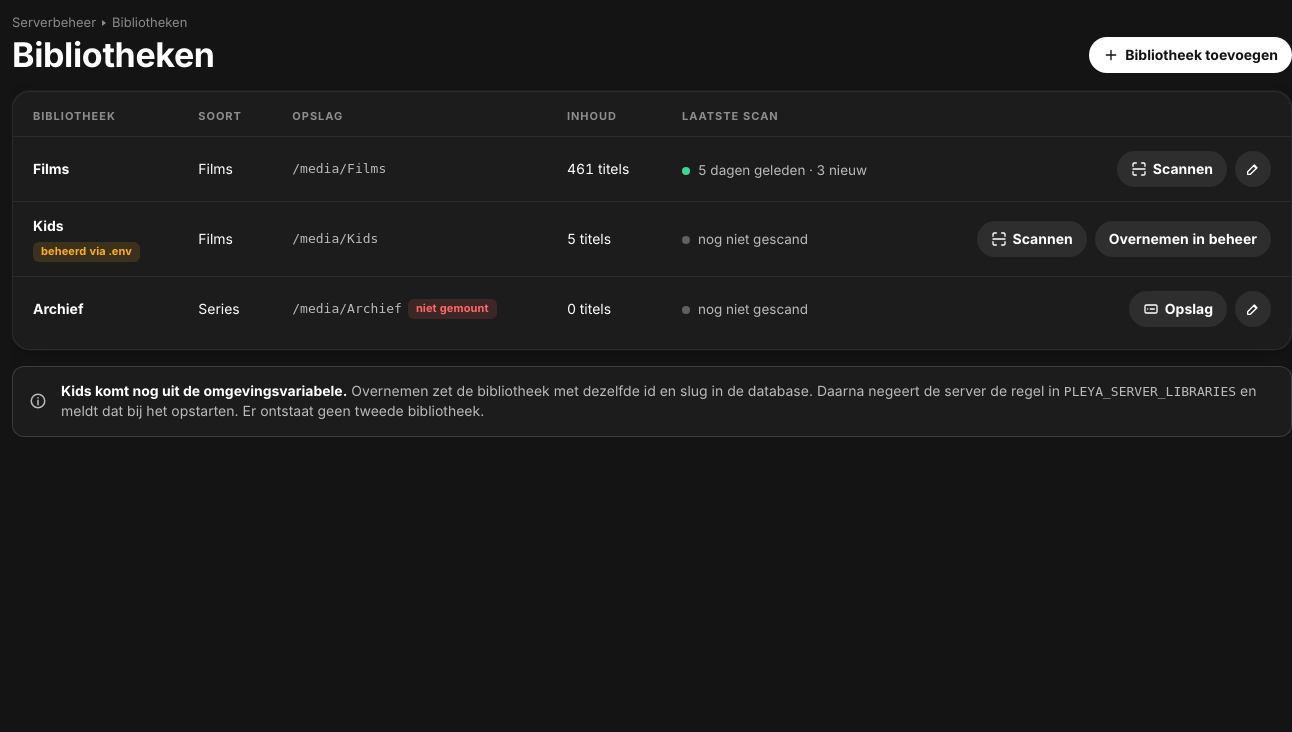
Test: scherm 21, bibliotheken › start een scan met POST en zet de rij in de wachtrij
Step 1. Click the button with aria-label "Films scannen" → (1172, 169), box [1117, 151, 1227, 187]
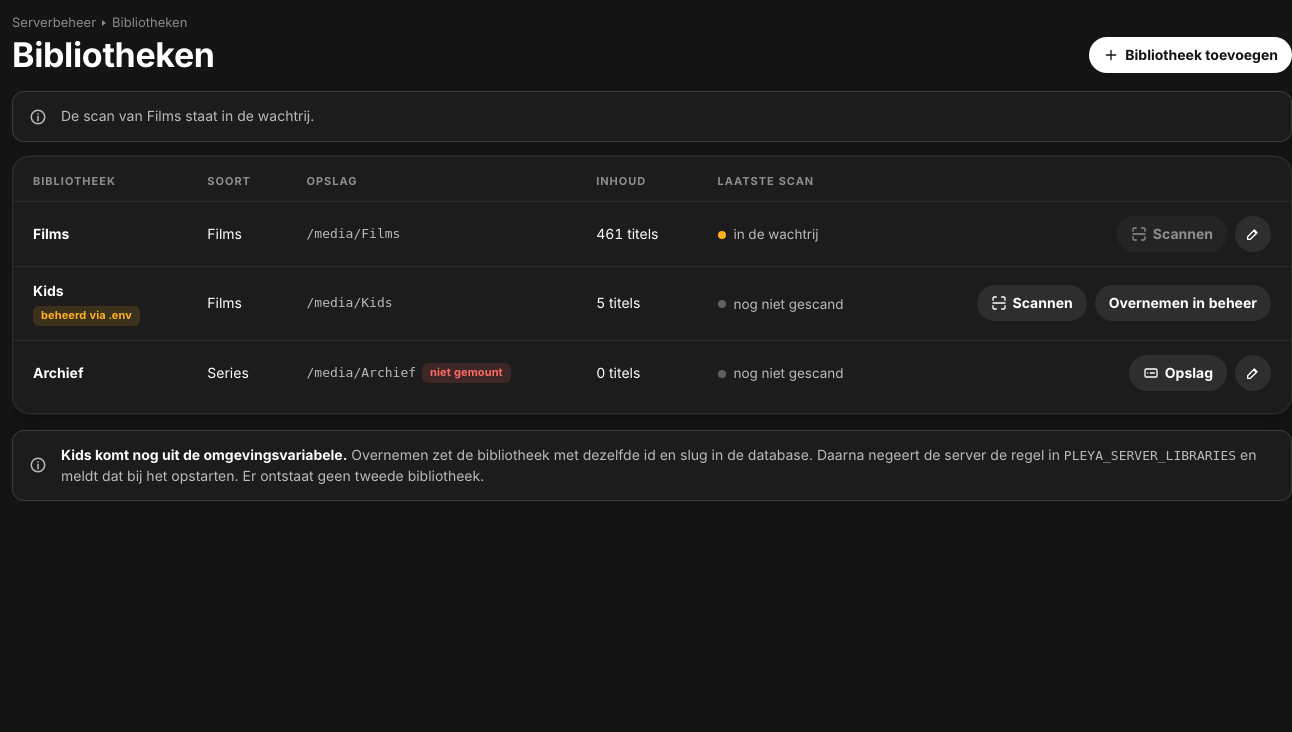
Now the text "in de wachtrij" is shown, box [718, 226, 819, 244]
Now the button with aria-label "Films scannen" is disabled, box [1117, 216, 1227, 252]
Now the text "De scan van Films staat in de wachtrij." is shown, box [61, 107, 314, 124]
